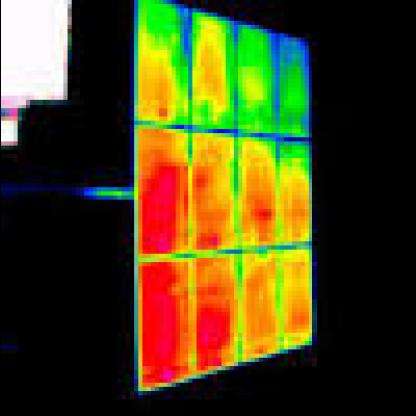Defects: (141, 266, 183, 378), (137, 170, 183, 250), (196, 291, 224, 370)
